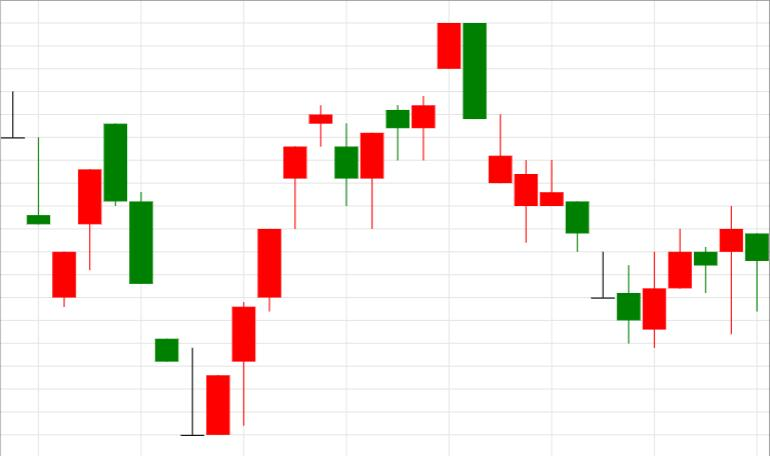bearish_engulfing_fall: (360, 24, 487, 230)
three_white_soldiers_rise: (104, 123, 281, 436)
